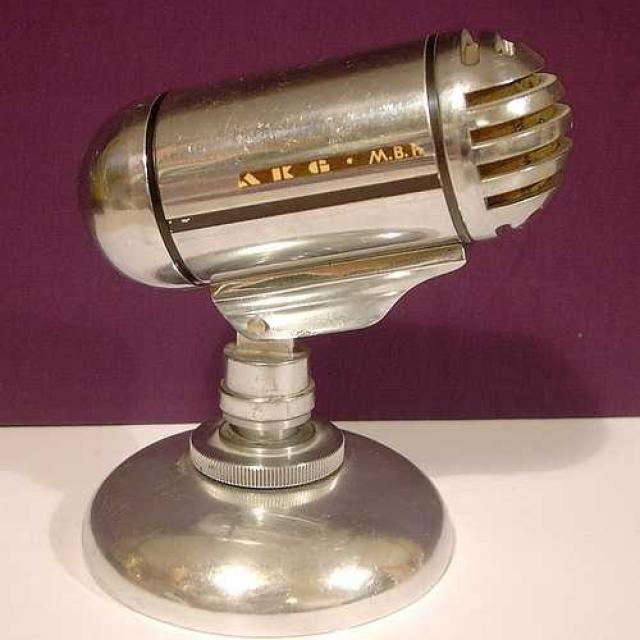microphone: (76, 28, 640, 365)
